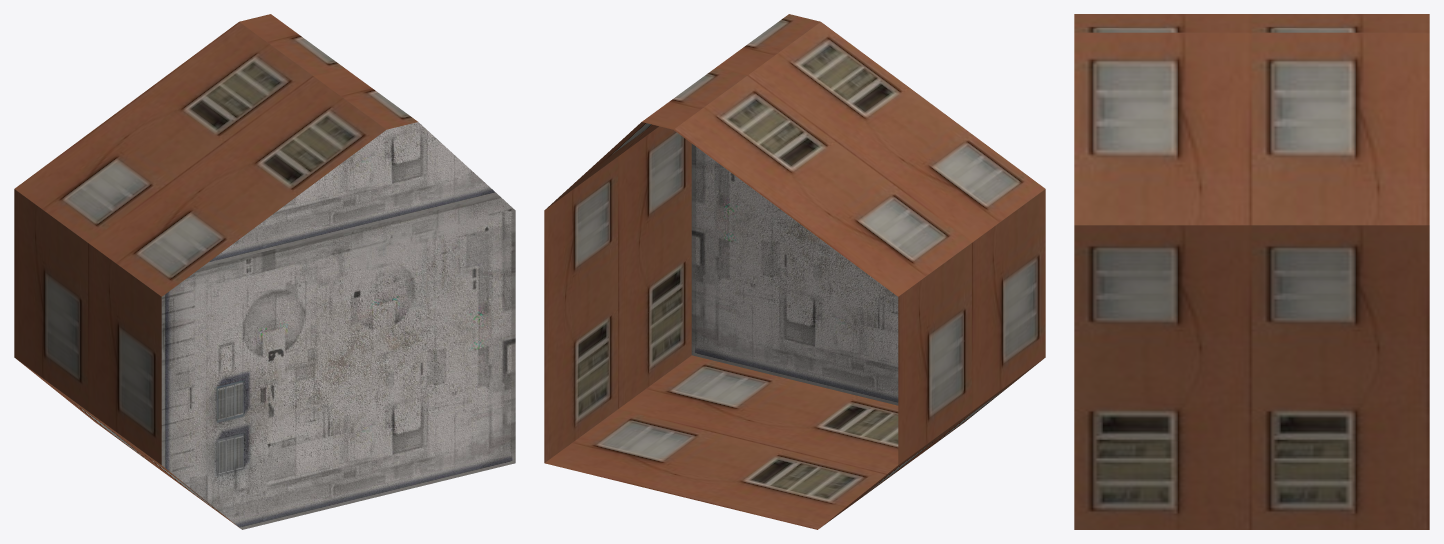
The model's file is building-99.obj.
The picture shows the model from 3 angles, left to right: view 1: azimuth 30°, elevation 25°; view 2: azimuth 150°, elevation 25°; view 3: azimuth 270°, elevation 25°; orthographic projection. The views are drawn at different scales.
Bounding box in the file's own units: 6.59 × 6.5 × 4.76.
